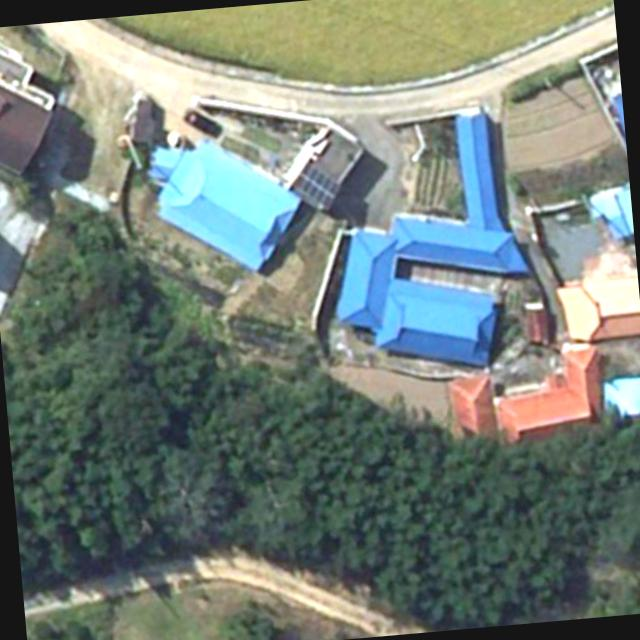solar: (296, 164, 344, 212)
